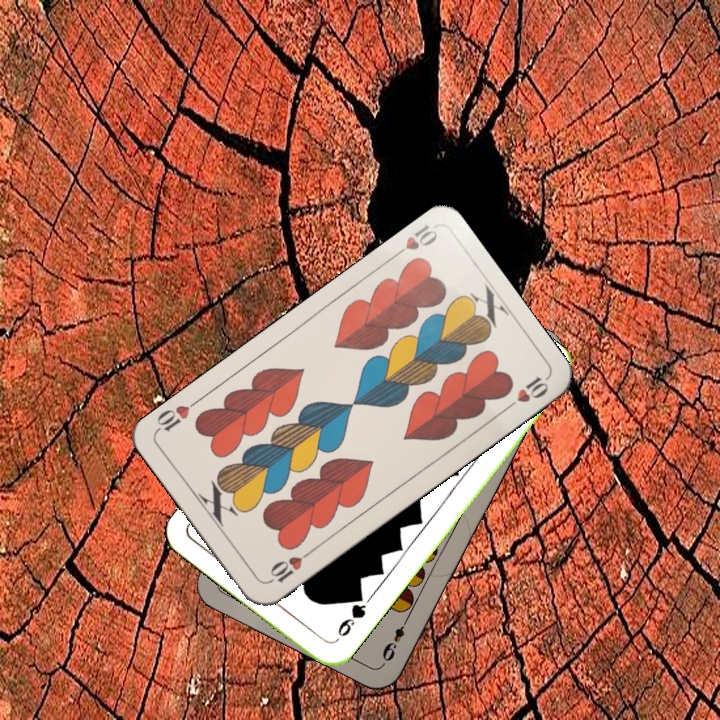E9: (378, 612, 412, 664)
G9: (331, 589, 369, 645)
H10: (387, 220, 440, 262), (264, 545, 315, 586)
